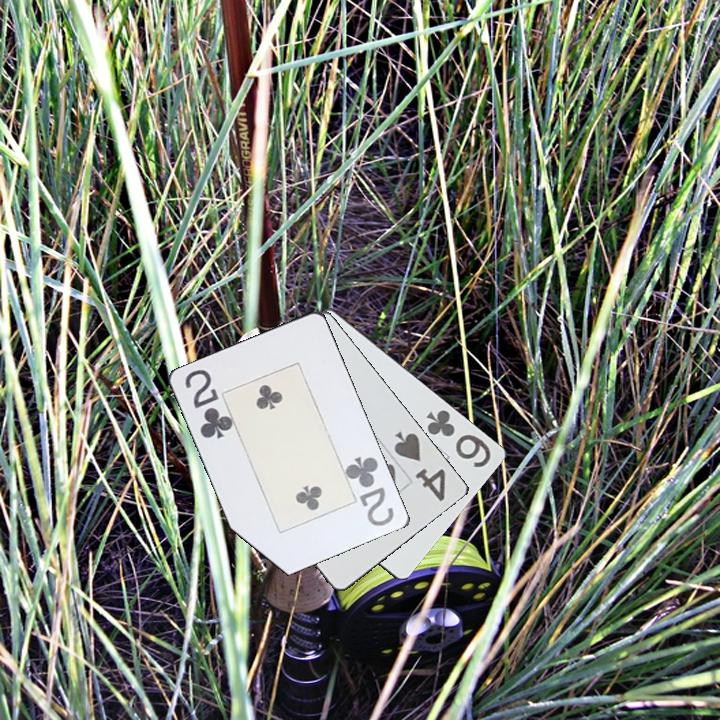2c: (343, 453, 397, 529), (182, 366, 234, 442)
4s: (391, 425, 449, 505)
6c: (423, 406, 495, 471)
